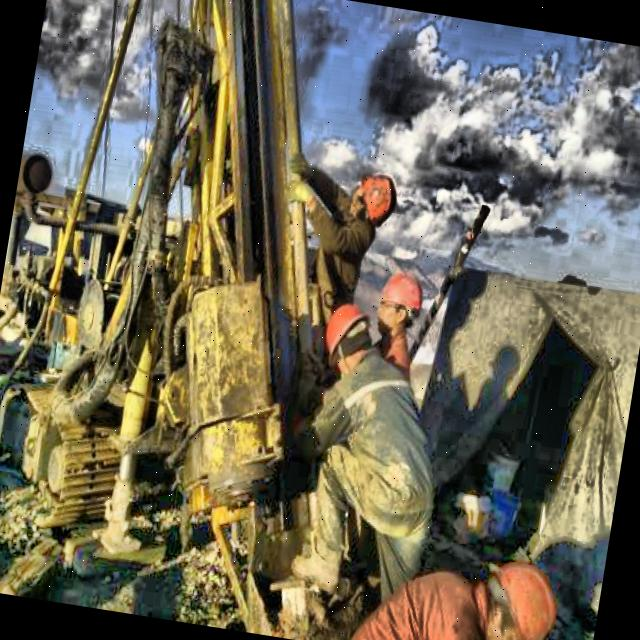helmet: (454, 540, 574, 640), (313, 298, 382, 382), (372, 268, 430, 342), (345, 170, 400, 238)
